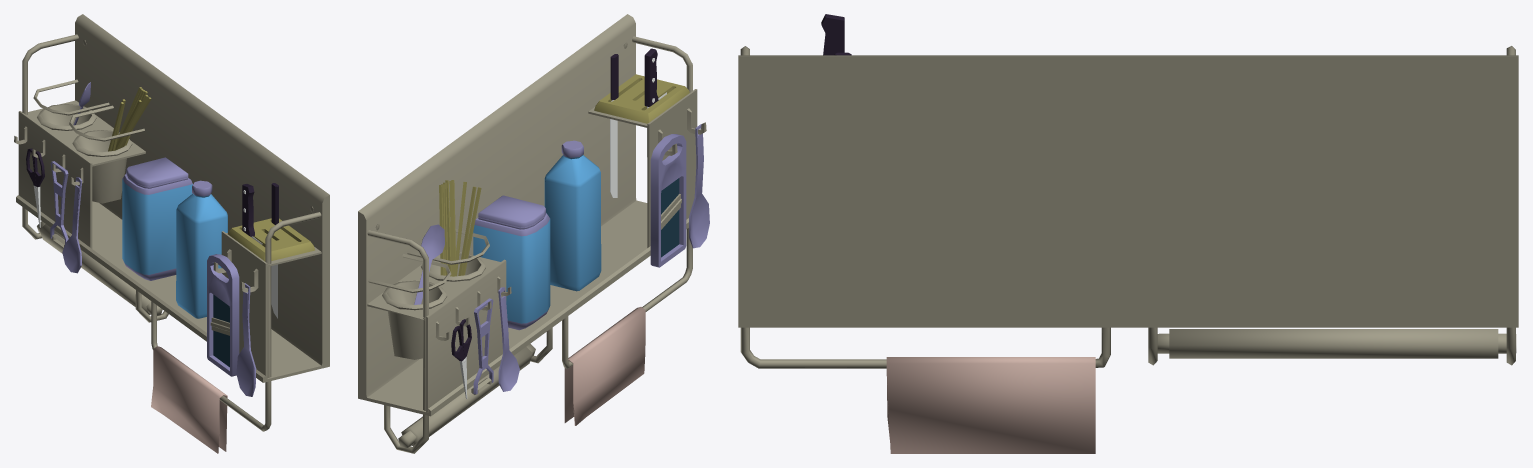
Rendered from CNHUIBAOAC201.FBX.
3 views of the same model, side by side, from view 1: azimuth 30°, elevation 25°; view 2: azimuth 150°, elevation 25°; view 3: azimuth 270°, elevation 25° (orthographic). The views are drawn at different scales.
Parts seen in each view (by area): view 1: CNHUIBAOAC201; view 2: CNHUIBAOAC201; view 3: CNHUIBAOAC201.
Boxes of the visible parts, x1=… form: CNHUIBAOAC201: x1=14, y1=14, x2=329, y2=453; CNHUIBAOAC201: x1=358, y1=14, x2=709, y2=453; CNHUIBAOAC201: x1=738, y1=14, x2=1518, y2=453.
Size of the model in its own units: 14.97 by 80 by 49.94.
